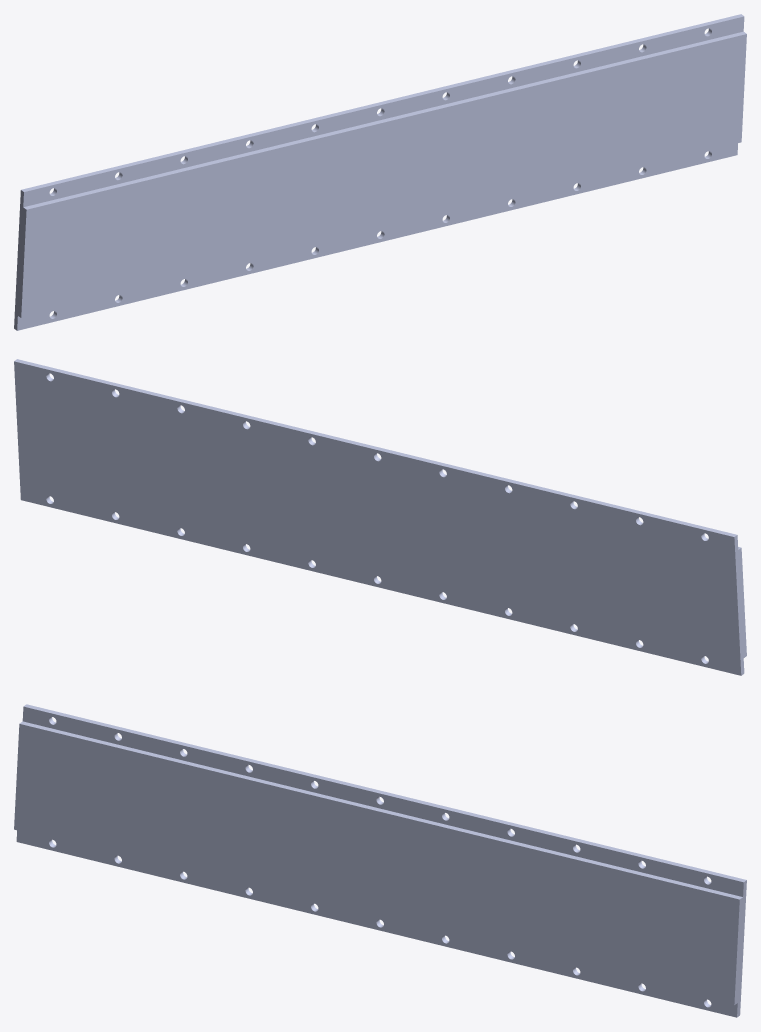
File: MTK-stator.glb
The picture shows the model from 3 angles, top to bottom: view 1: azimuth 30°, elevation 25°; view 2: azimuth 150°, elevation 25°; view 3: azimuth 330°, elevation 25°; orthographic projection.
Parts seen in each view (by area): view 1: MTK288_node, MTK144_node, MTK96_node; view 2: MTK288_node, MTK144_node, MTK96_node; view 3: MTK288_node, MTK144_node, MTK96_node.
Part boxes in pixels (x1,y1,x2,y2): MTK288_node: [344, 14, 746, 250]; MTK144_node: [148, 110, 353, 298]; MTK96_node: [14, 158, 157, 330]; MTK288_node: [14, 359, 413, 595]; MTK144_node: [407, 455, 610, 643]; MTK96_node: [603, 503, 746, 675]; MTK288_node: [341, 784, 746, 1017]; MTK144_node: [145, 736, 353, 921]; MTK96_node: [14, 704, 157, 873].
Bounding box in the file's own units: 533 × 96 × 8.2.
